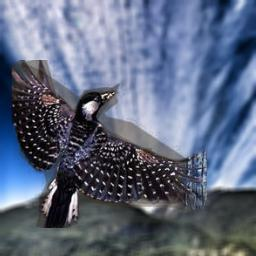Woodpecker: (11, 60, 207, 228)
